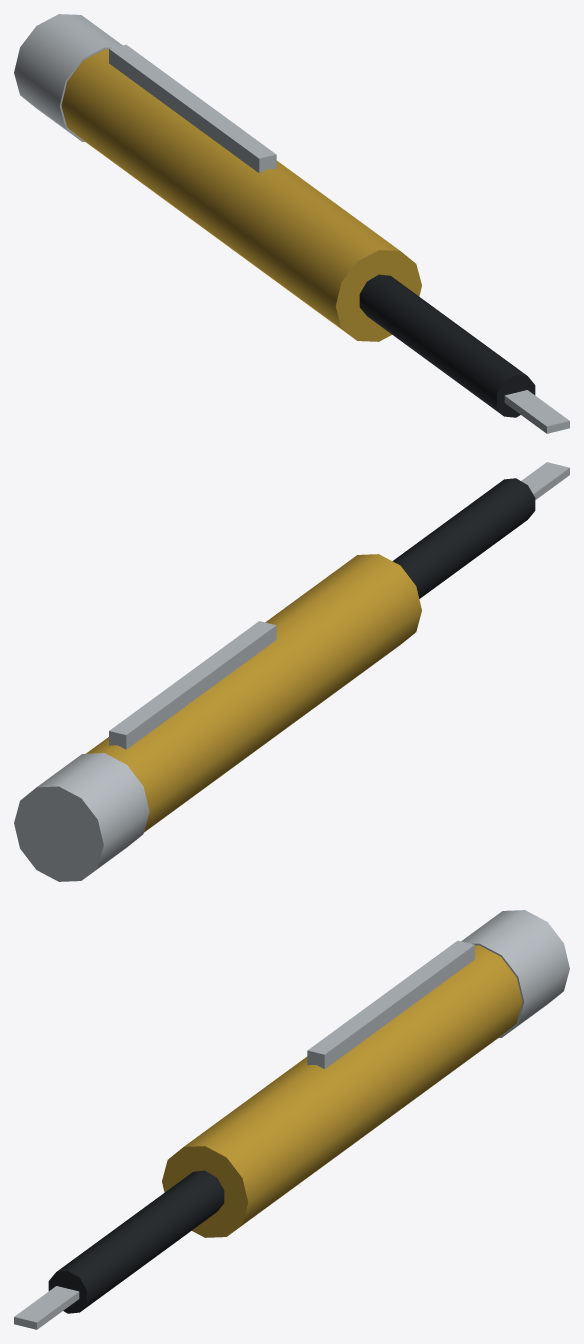
File: tool-test-pencil.glb
The picture shows the model from 3 angles, top to bottom: view 1: azimuth 30°, elevation 25°; view 2: azimuth 150°, elevation 25°; view 3: azimuth 330°, elevation 25°; orthographic projection.
Visible parts, largest first — view 1: STATIC_paint, STATIC_metal; view 2: STATIC_paint, STATIC_metal; view 3: STATIC_paint, STATIC_metal.
Boxes of the visible parts, <box> form: STATIC_paint: <box>61,49,535,417</box>; STATIC_metal: <box>14,14,569,433</box>; STATIC_paint: <box>86,478,535,832</box>; STATIC_metal: <box>14,462,569,881</box>; STATIC_paint: <box>48,945,522,1313</box>; STATIC_metal: <box>14,910,569,1329</box>.
Bounding box in the file's own units: 0.016 × 0.018 × 0.154.
